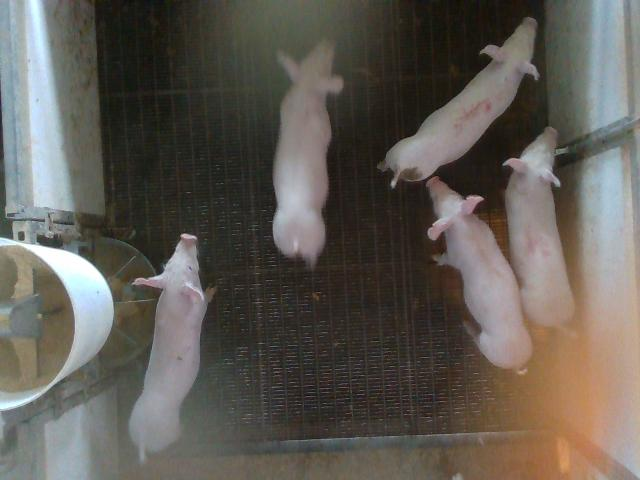pig-4: (504, 126, 575, 326)
pig-5: (378, 18, 539, 187)
